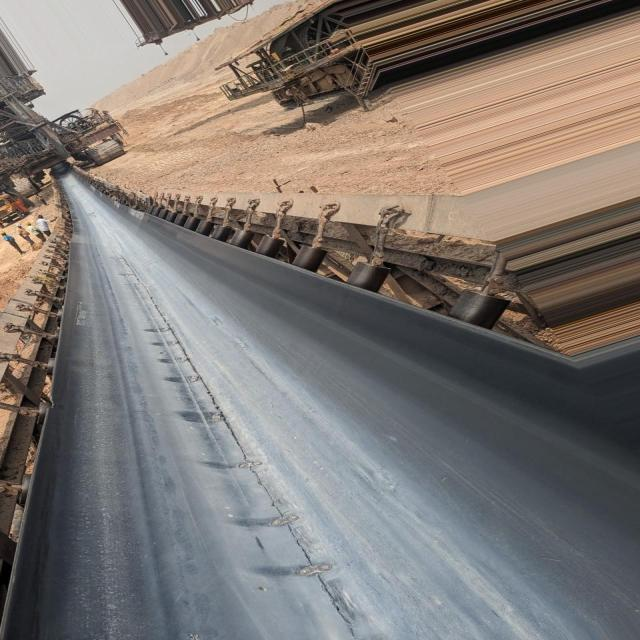Human: (2, 231, 25, 253), (25, 222, 45, 242), (18, 223, 36, 245), (37, 214, 54, 235)
Roller: (156, 213, 511, 330)
patch work: (131, 288, 382, 635)
